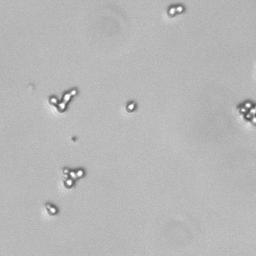budding: (124, 96, 139, 114), (167, 5, 184, 17), (44, 202, 59, 215)
cluster: (47, 85, 80, 114), (61, 165, 88, 191), (238, 99, 256, 126)
